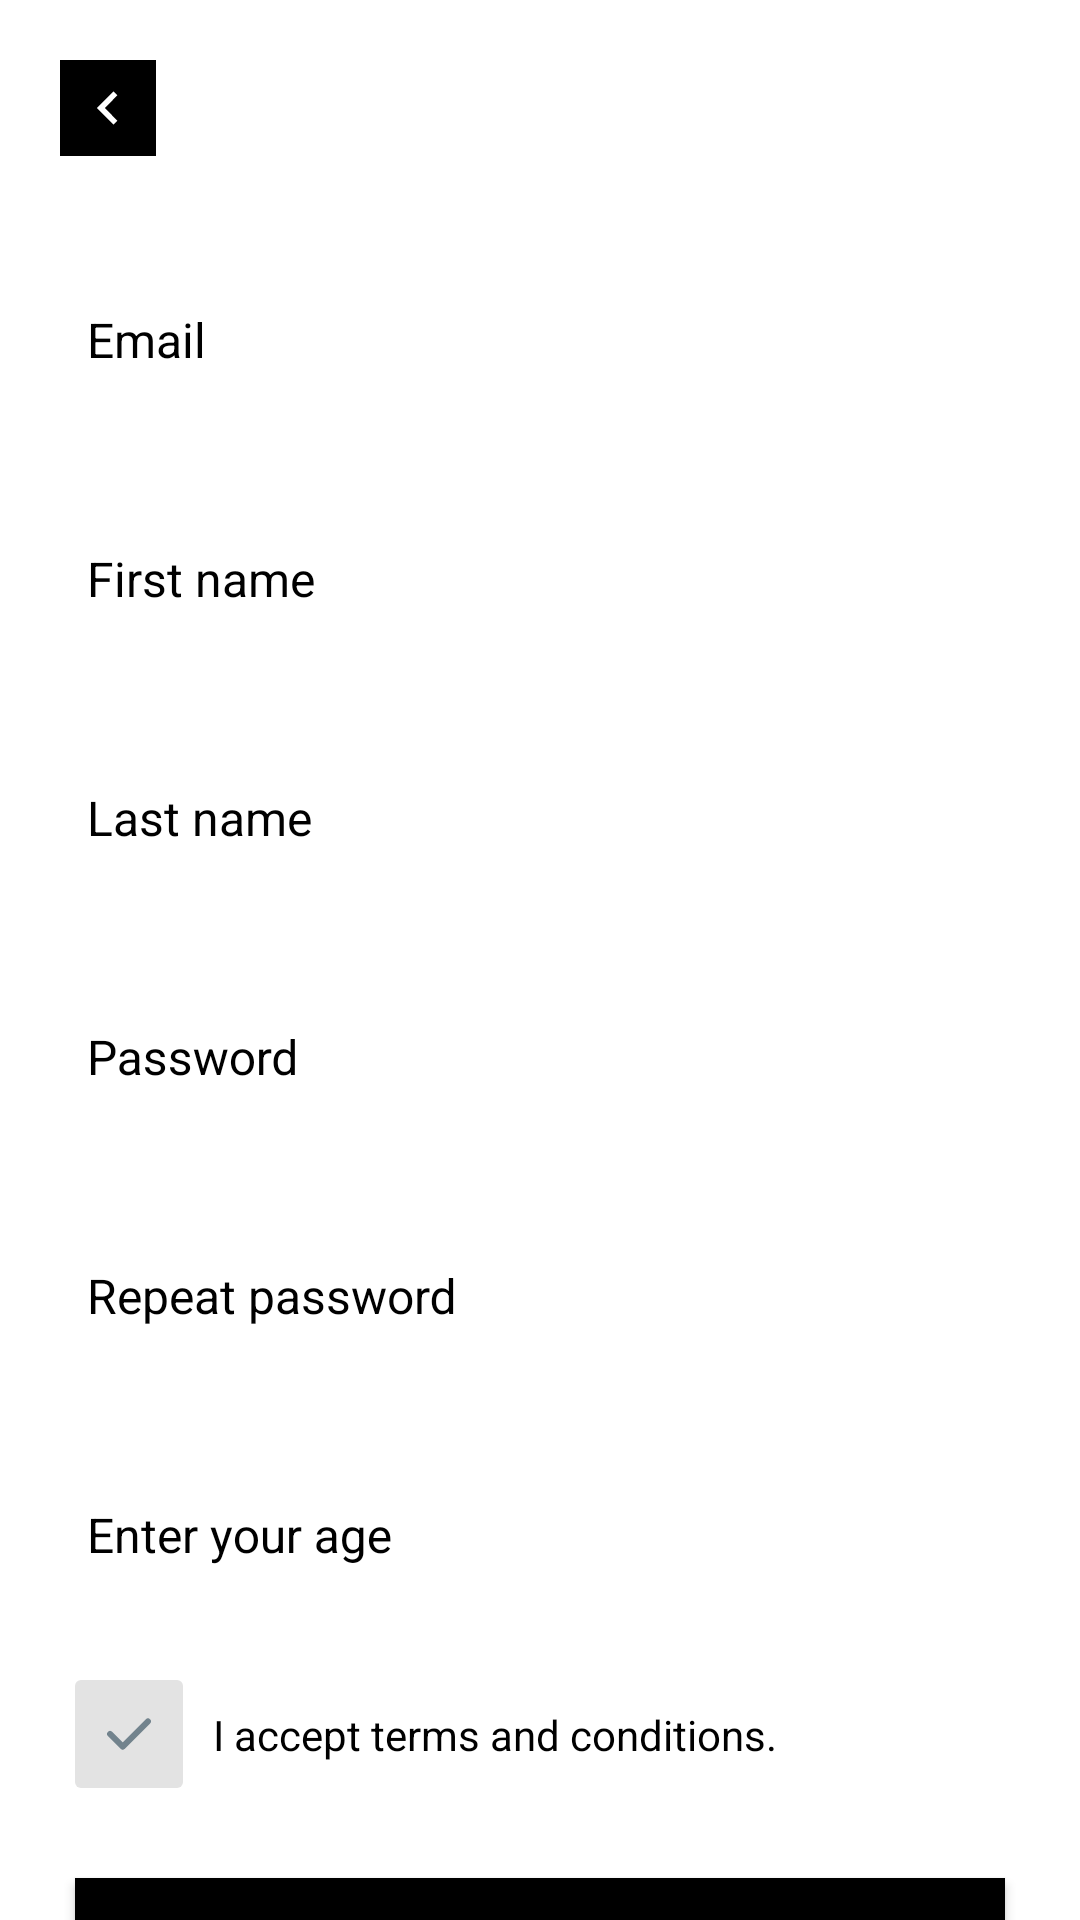

Point at icon controls on the screen. Image size 1080 × 1920, points as point (x, y).
back arrow: point (108, 108)
checkbox: point (129, 1734)
